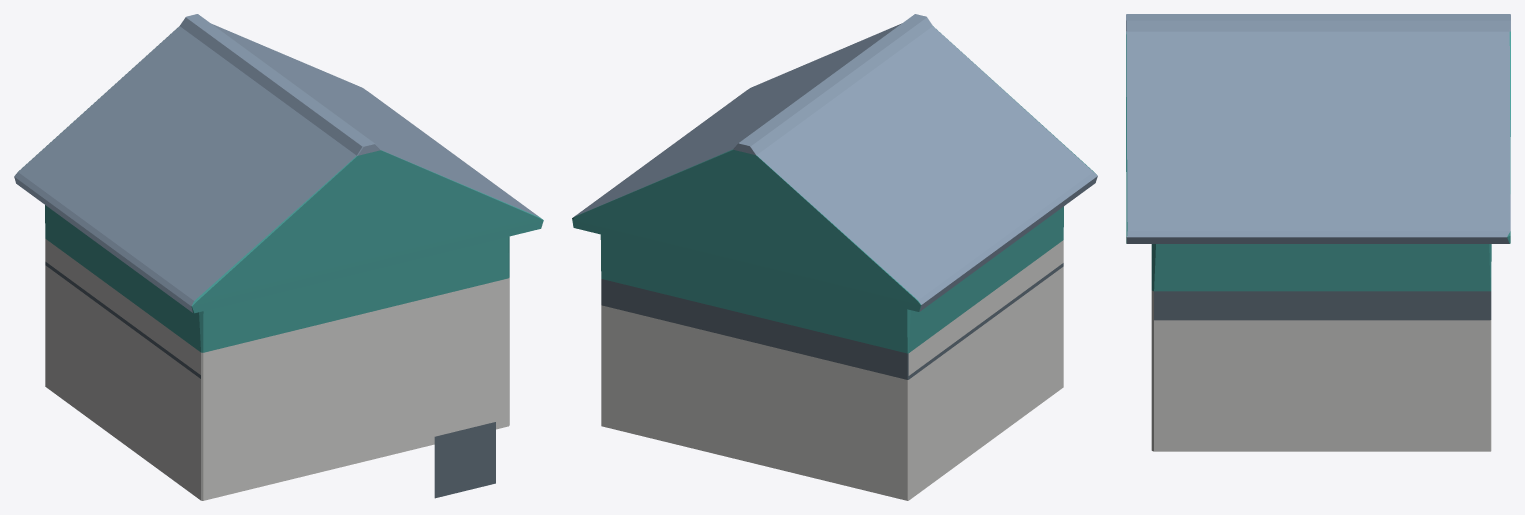
Rendered from loin.glb.
3 views of the same model, side by side, from view 1: azimuth 30°, elevation 25°; view 2: azimuth 150°, elevation 25°; view 3: azimuth 270°, elevation 25° (orthographic). The views are drawn at different scales.
Parts seen in each view (by area): view 1: loin; view 2: loin; view 3: loin.
Part boxes in pixels (<box>): loin: <box>14,14,543,500</box>; loin: <box>572,14,1097,500</box>; loin: <box>1126,14,1510,451</box>.
Bounding box in the file's own units: 0.8767 × 0.902 × 0.7653.
